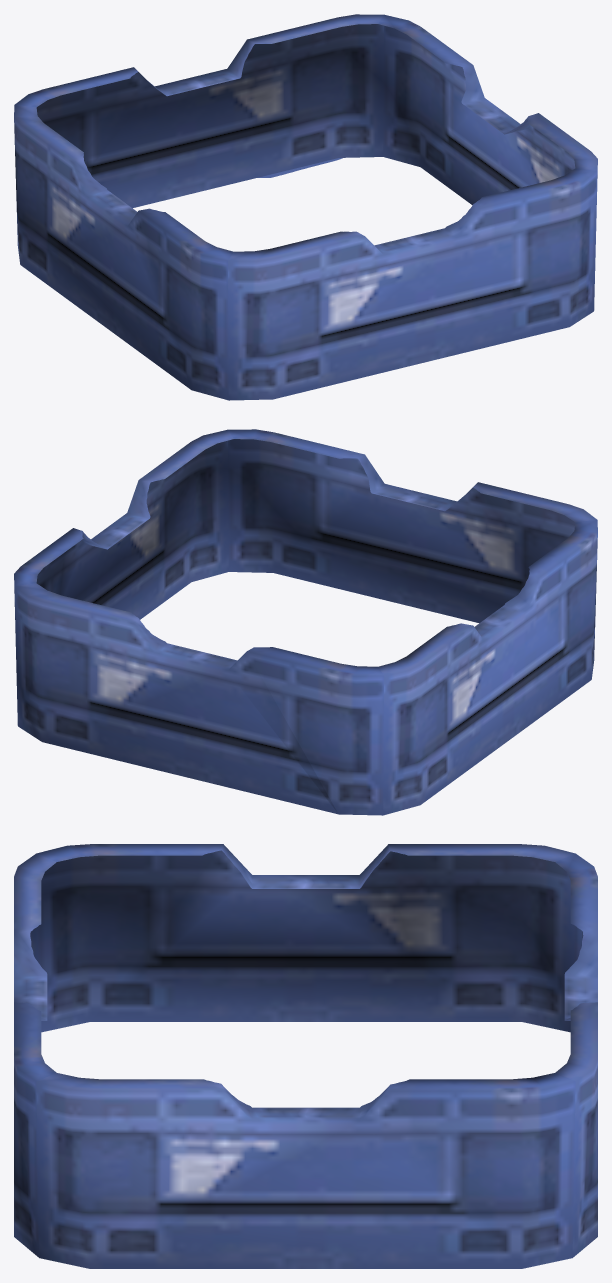
File: CrateFruit02_S.FBX
3 views of the same model, one above another, from view 1: azimuth 30°, elevation 25°; view 2: azimuth 150°, elevation 25°; view 3: azimuth 270°, elevation 25° (orthographic). The views are drawn at different scales.
Parts seen in each view (by area): view 1: CrateFruit02_S; view 2: CrateFruit02_S; view 3: CrateFruit02_S.
Boxes of the visible parts, x1,y1,x2,y2 form: CrateFruit02_S: (14,14,597,400); CrateFruit02_S: (14,429,597,815); CrateFruit02_S: (14,844,597,1268).
Size of the model in its own units: 1.48 by 0.4992 by 1.48.
